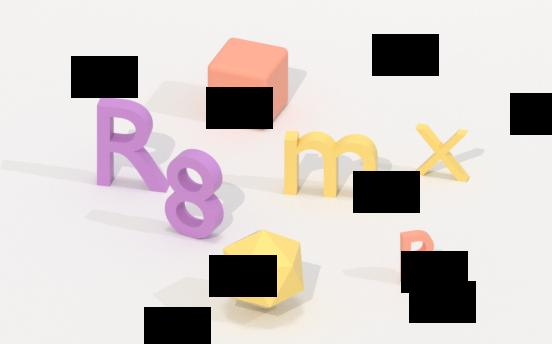8: (163, 147, 227, 242)
R-hoa: (93, 91, 171, 201), (399, 228, 446, 288)
dagiac: (220, 226, 310, 313)
hop: (200, 36, 295, 131)
m: (286, 132, 382, 203)
x: (411, 118, 475, 190)
